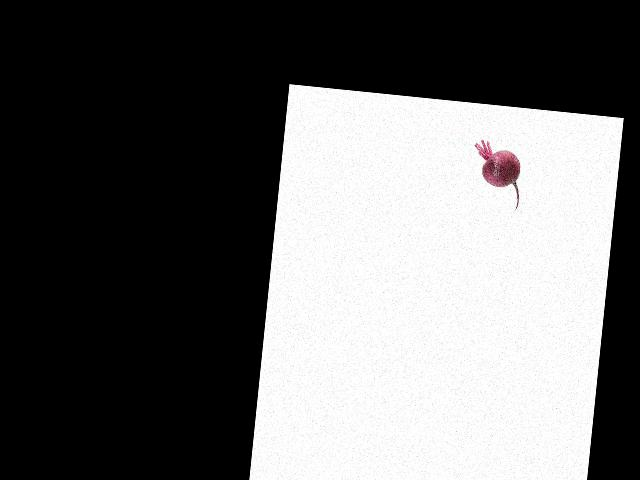beet: (468, 139, 524, 212)
